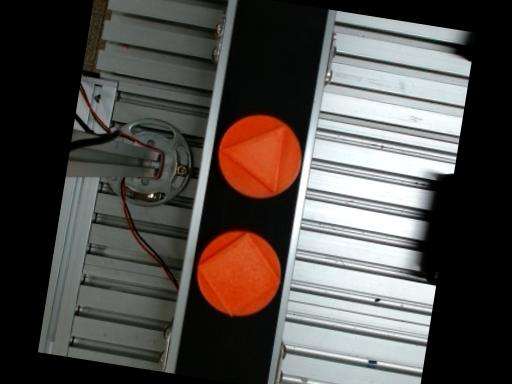Not_Square: (218, 123, 284, 193)
Orange_Waper: (195, 230, 280, 316), (216, 114, 300, 199)
Square: (195, 231, 279, 315)
